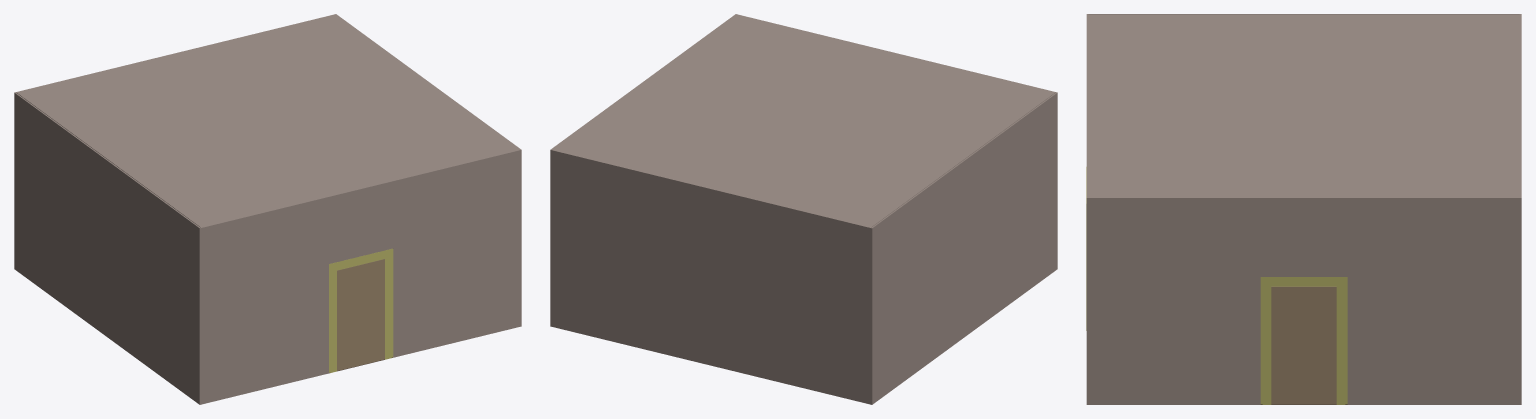
Rendered from Room34_OperatingLaboratory.fbx.
3 renders of one model, left to right at view 1: azimuth 30°, elevation 25°; view 2: azimuth 150°, elevation 25°; view 3: azimuth 270°, elevation 25°, orthographic. The views are drawn at different scales.
Visible parts, largest first — view 1: Roof, WallSlicedPosZ, WallPosX, DoorPosZ, DoorFramePosZ, WallSlicedNegX; view 2: Roof, WallNegZ, WallPosX, WallSlicedNegX; view 3: WallSlicedNegX, Roof, DoorNegX, DoorFrameNegX, WallSlicedPosZ, WallNegZ, WallPosX.
Boxes of the visible parts, x1=… form: Roof: x1=17, y1=15, x2=519, y2=227; WallSlicedPosZ: x1=200, y1=149, x2=521, y2=404; WallPosX: x1=14, y1=92, x2=201, y2=404; DoorPosZ: x1=337, y1=259, x2=384, y2=370; DoorFramePosZ: x1=329, y1=248, x2=393, y2=372; WallSlicedNegX: x1=335, y1=14, x2=521, y2=326; Roof: x1=552, y1=15, x2=1054, y2=227; WallNegZ: x1=550, y1=149, x2=871, y2=404; WallPosX: x1=870, y1=92, x2=1057, y2=404; WallSlicedNegX: x1=550, y1=14, x2=736, y2=326; WallSlicedNegX: x1=1086, y1=197, x2=1521, y2=404; Roof: x1=1088, y1=15, x2=1519, y2=197; DoorNegX: x1=1271, y1=286, x2=1336, y2=404; DoorFrameNegX: x1=1260, y1=277, x2=1347, y2=404; WallSlicedPosZ: x1=1086, y1=14, x2=1089, y2=404; WallNegZ: x1=1518, y1=14, x2=1521, y2=404; WallPosX: x1=1086, y1=14, x2=1521, y2=14.
Size of the model in its own units: 100 by 52.5 by 100.
